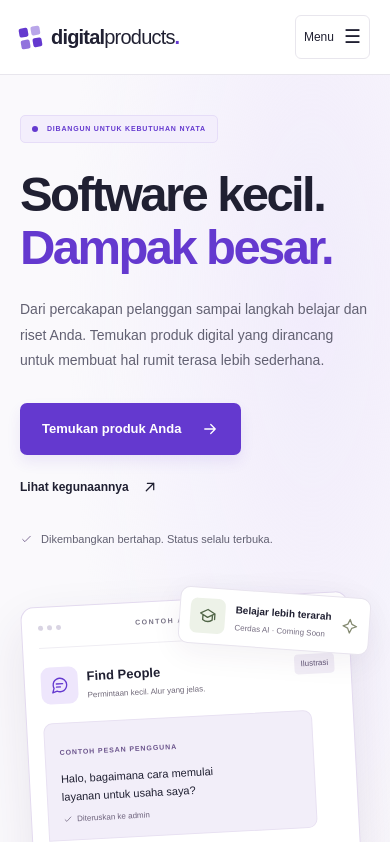
Homepage Hari 04 › membuka dan menutup menu serta memperbarui atribut aksesibilitas
This screenshot has width=390, height=842.
Click the button with aria-label "Buka menu": (332, 37) [295,15,370,59]
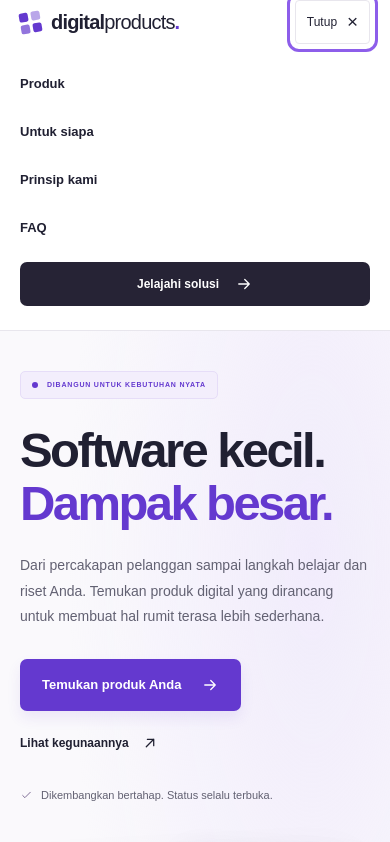
expect the button with aria-label "Tutup menu" is expanded: met, box [295,0,370,44]
Click the link "Untuk siapa": (57, 132) [20,124,94,139]
(page scrolled)
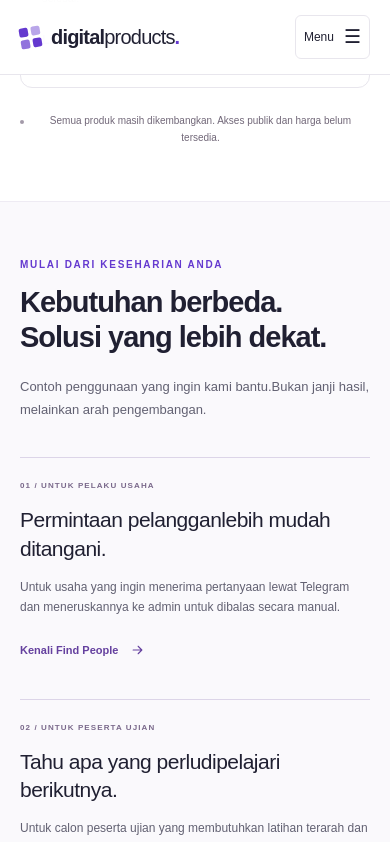
expect the button named "Tutup menu" is collapsed: met, box [295,15,370,59]
